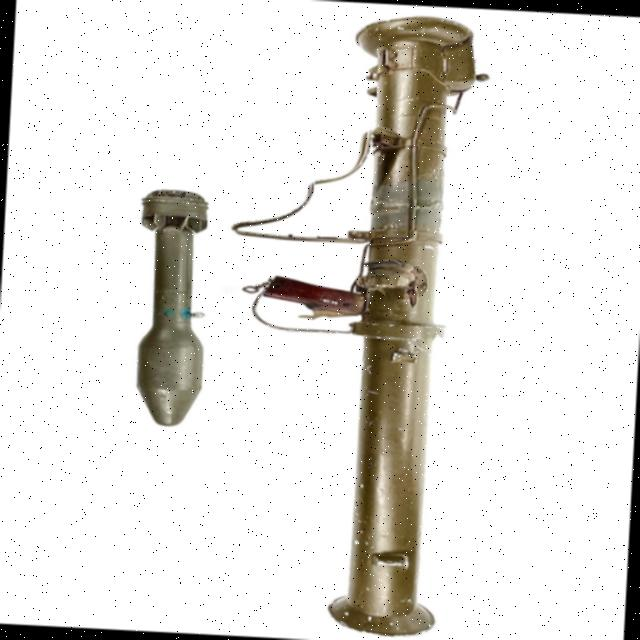Bazooka: (227, 15, 479, 640)
